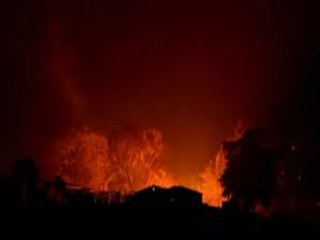fire: (57, 119, 234, 203)
